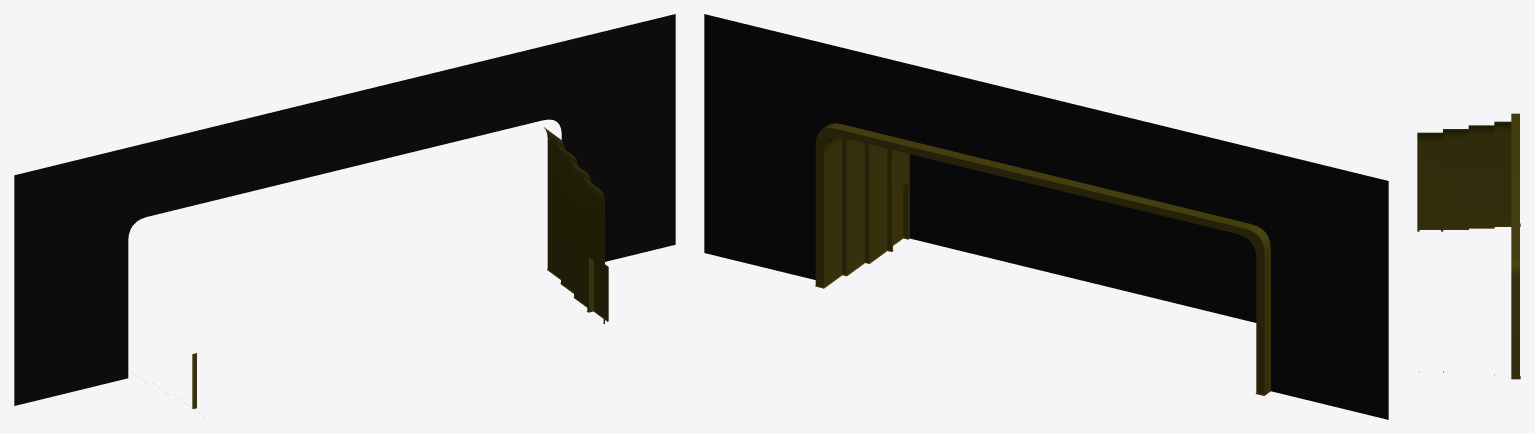
The model's file is Auditorium02_Stage_Wall.FBX.
3 renders of one model, left to right at view 1: azimuth 30°, elevation 25°; view 2: azimuth 150°, elevation 25°; view 3: azimuth 270°, elevation 25°, orthographic. The views are drawn at different scales.
Parts seen in each view (by area): view 1: Auditorium02_Stage_Wall; view 2: Auditorium02_Stage_Wall; view 3: Auditorium02_Stage_Wall.
Part boxes in pixels (x1,y1,x2,y2): Auditorium02_Stage_Wall: (14, 14, 675, 408); Auditorium02_Stage_Wall: (704, 14, 1388, 419); Auditorium02_Stage_Wall: (1417, 113, 1520, 379).
Size of the model in its own units: 44574 by 14866 by 8219.
